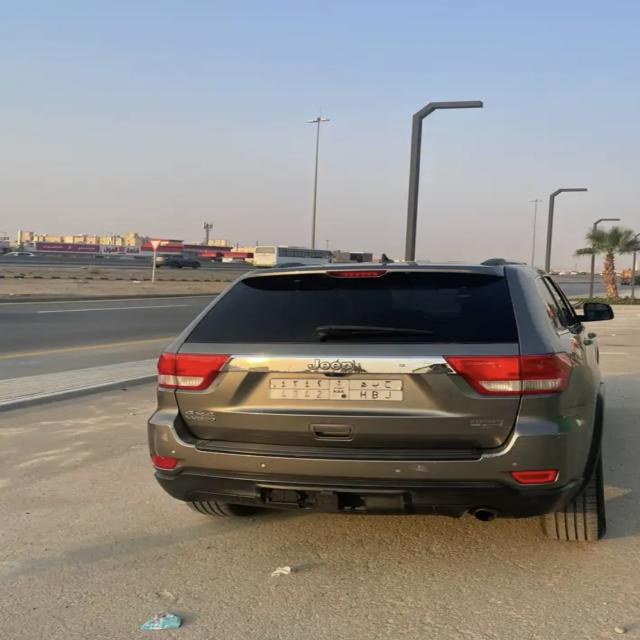license_plate: (270, 377, 406, 401)
